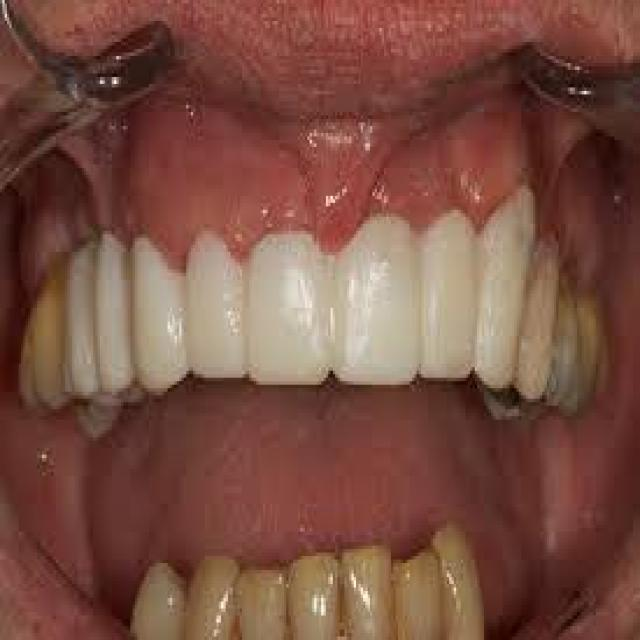tooth: (240, 234, 333, 396), (331, 224, 422, 381), (179, 220, 247, 385), (126, 217, 186, 388), (479, 168, 522, 402), (335, 528, 421, 640), (426, 203, 477, 388), (89, 224, 138, 392), (277, 538, 340, 640), (235, 549, 305, 640), (524, 217, 554, 406)
